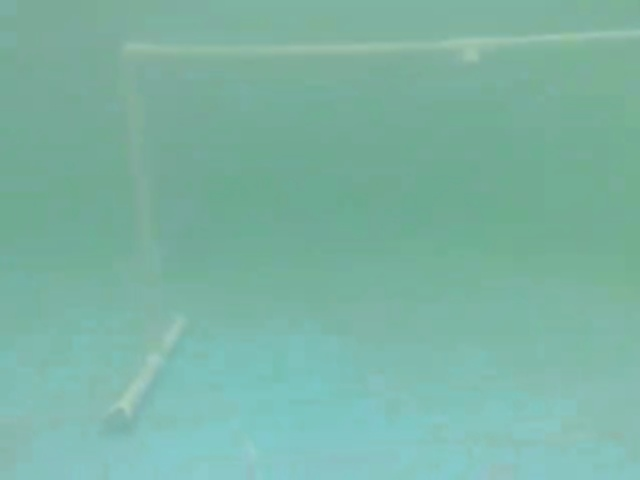gate: (63, 16, 640, 448)
